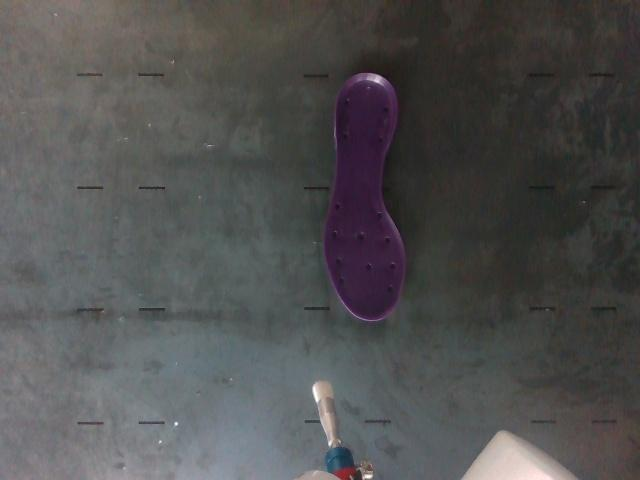shoes: (324, 72, 406, 321)
